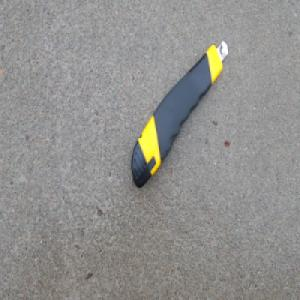Cutter: (129, 38, 227, 190)
